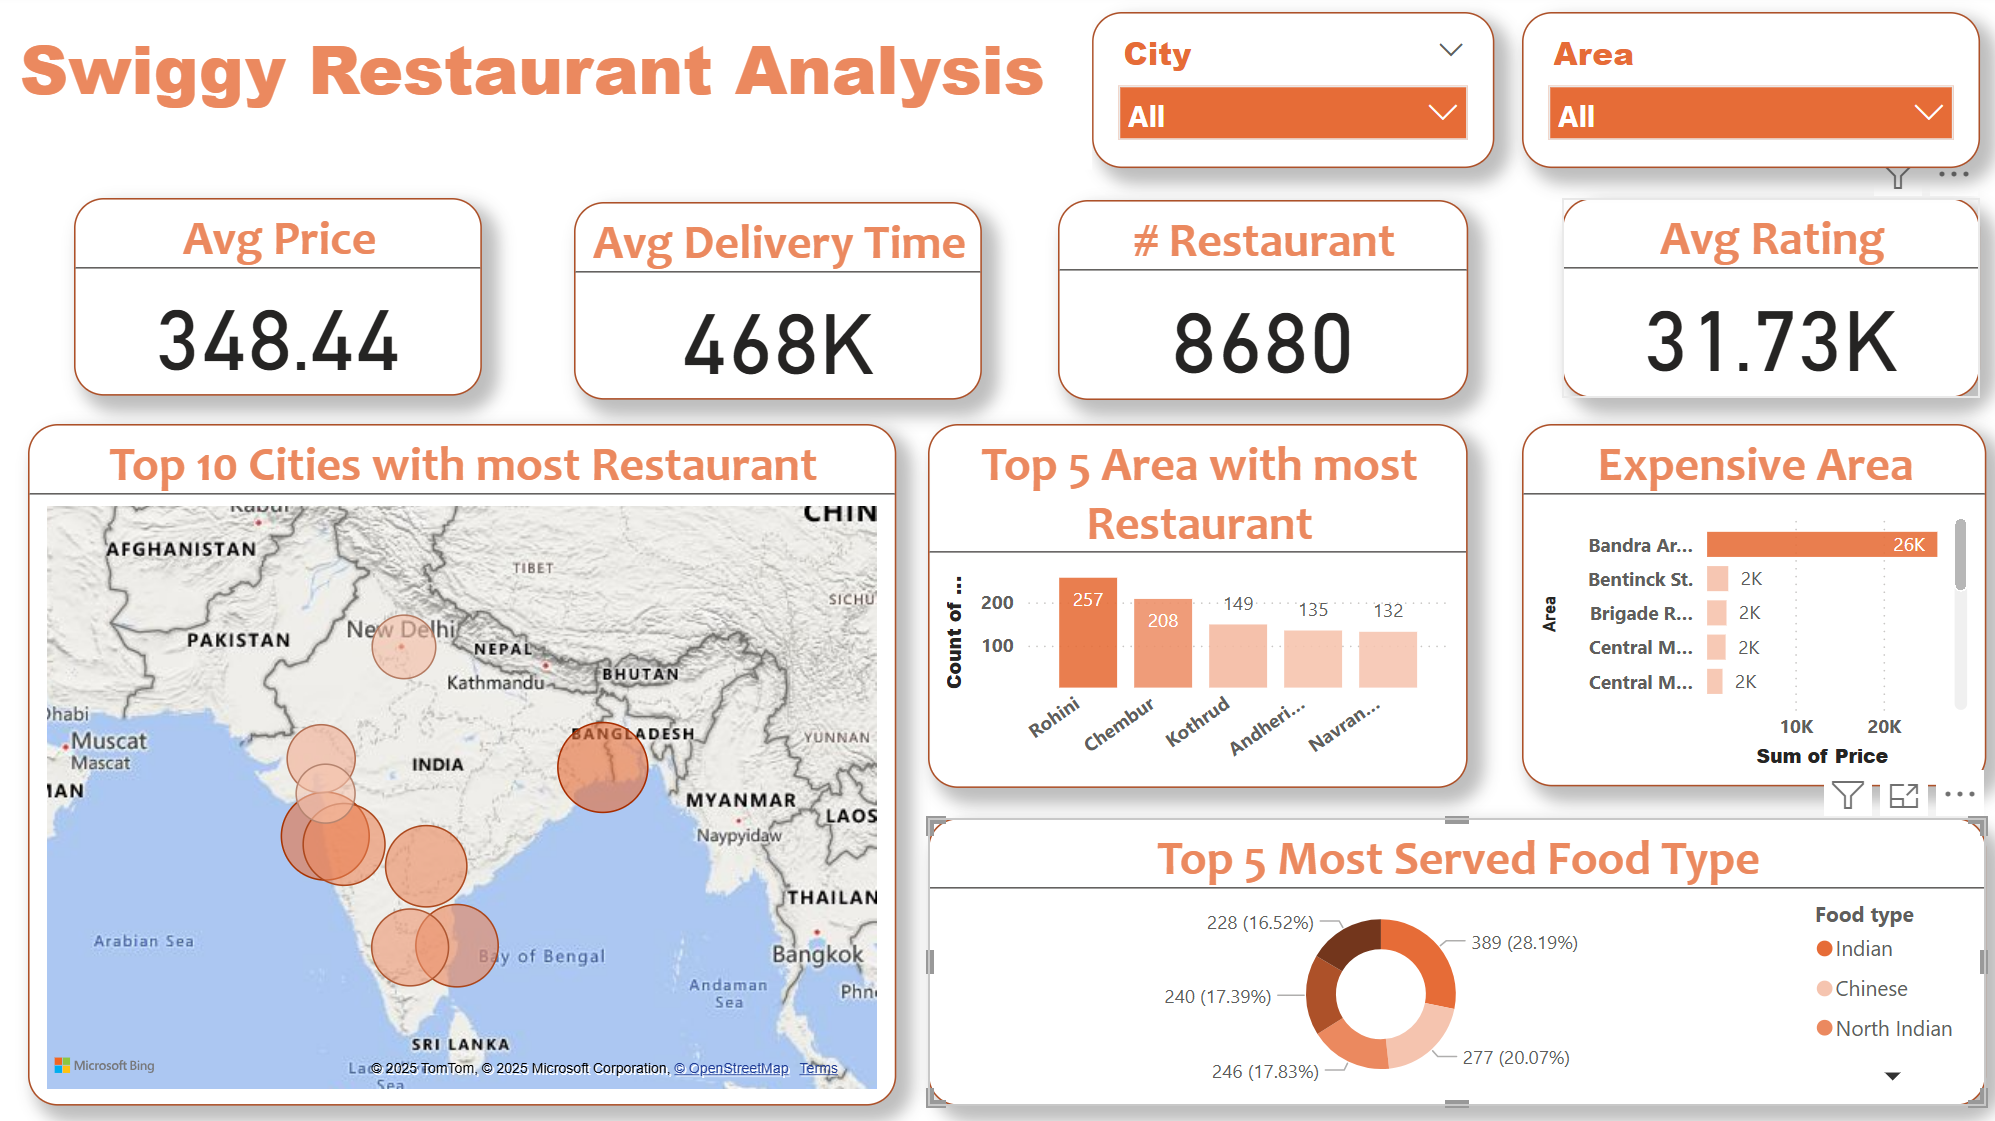

The dashboard page shown, as its layout file describes it:
{"tool":"powerbi","page":{"name":"Page 1","canvas":[1280,720],"ordinal":0},"visuals":[{"type":"card","title":"Avg Rating","fields":{"Values":["swiggy.Avg ratings"]},"box":[997,131.3,266.5,127.5],"z":0},{"type":"card","title":"Avg Price","fields":{"Values":["swiggy.Price"]},"box":[48.4,131.3,260.1,126.2],"z":1000},{"type":"card","title":"Avg Delivery Time","fields":{"Values":["swiggy.Delivery time"]},"box":[367.2,133.9,260.1,126.2],"z":2000},{"type":"card","title":"# Restaurant","fields":{"Values":["swiggy.ID"]},"box":[675.7,132.6,261.4,127.5],"z":3000},{"type":"columnChart","title":"Top 5 Area with most Restaurant","fields":{"Category":["swiggy.Area"],"Y":["swiggy.ID"]},"box":[592.8,275.4,344.2,232],"z":4000},{"type":"donutChart","title":"Top 5 Most Served Food Type","fields":{"Category":["swiggy.Food type"],"Y":["swiggy.ID"]},"box":[592.8,526.5,674.4,183.6],"z":5000},{"type":"map","title":"Top 10 Cities with most Restaurant","fields":{"Category":["swiggy.City"],"Size":["swiggy.ID"]},"box":[19.1,275.4,553.3,434.7],"z":6000},{"type":"barChart","title":"Expensive Area","fields":{"Category":["swiggy.Area"],"Y":["swiggy.Price"]},"box":[971.5,275.4,295.8,230.8],"z":7000},{"type":"slicer","fields":{"Values":["swiggy.City"]},"box":[697.4,12.7,256.3,99.4],"z":8000},{"type":"slicer","fields":{"Values":["swiggy.Area"]},"box":[971.5,12.7,292,99.4],"z":9000},{"type":"textbox","box":[8.9,12.7,688.4,100.7],"z":10000}]}

Visuals, with their boxes in screenshot pixels (x1, y1, x2, y2), scaled from the page's 1280x720 canvas onto the 1995x1121 screenshot:
"Avg Rating" card: l=1554, t=204, r=1969, b=403
"Avg Price" card: l=75, t=204, r=481, b=401
"Avg Delivery Time" card: l=572, t=208, r=978, b=405
"# Restaurant" card: l=1053, t=206, r=1461, b=405
"Top 5 Area with most Restaurant" columnChart: l=924, t=429, r=1460, b=790
"Top 5 Most Served Food Type" donutChart: l=924, t=820, r=1975, b=1106
"Top 10 Cities with most Restaurant" map: l=30, t=429, r=892, b=1106
"Expensive Area" barChart: l=1514, t=429, r=1975, b=788
slicer - swiggy.City: l=1087, t=20, r=1486, b=175
slicer - swiggy.Area: l=1514, t=20, r=1969, b=175
textbox: l=14, t=20, r=1087, b=177
